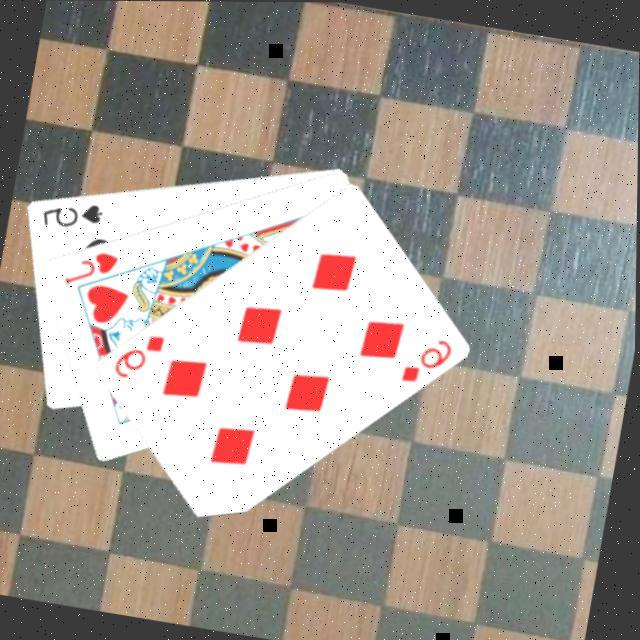5S: (36, 190, 108, 235)
6D: (109, 323, 170, 384), (397, 328, 458, 389)
JH: (59, 240, 122, 293)
